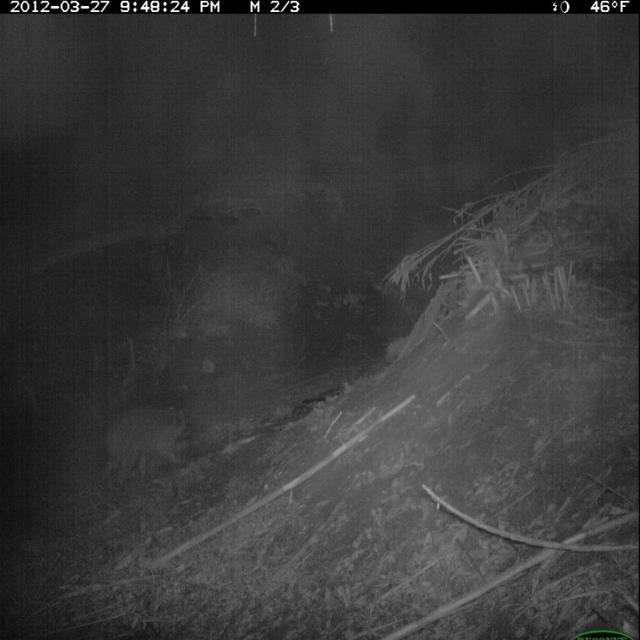raccoon: (102, 403, 193, 489)
